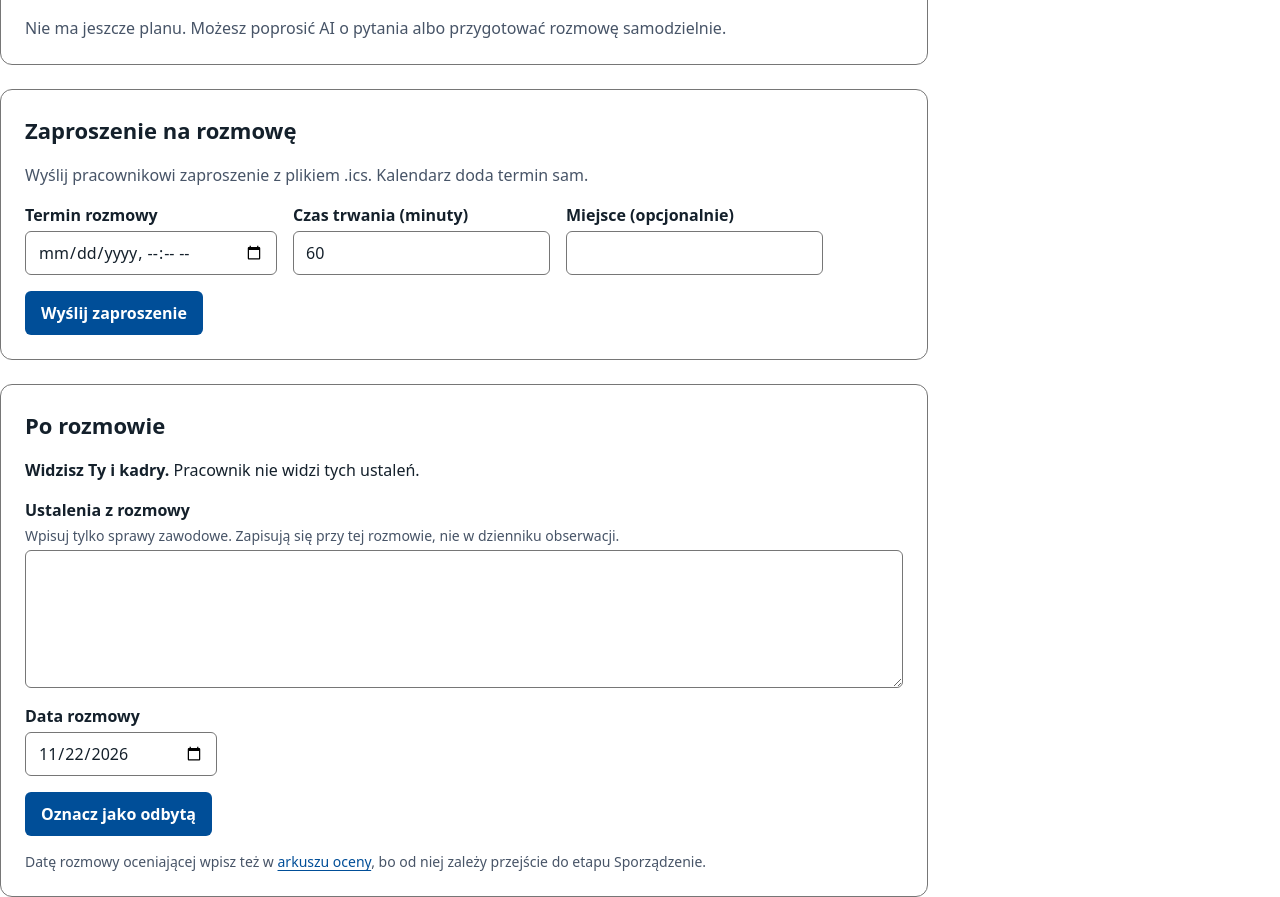
Test case: ConversationPage › saves the outcomes with the date of the conversation
(page scrolled)
Step 1. Type "Cotygodniowy przegląd zadań." into the text box labelled "Ustalenia z rozmowy" → (464,619), box 25,550 -> 902,688
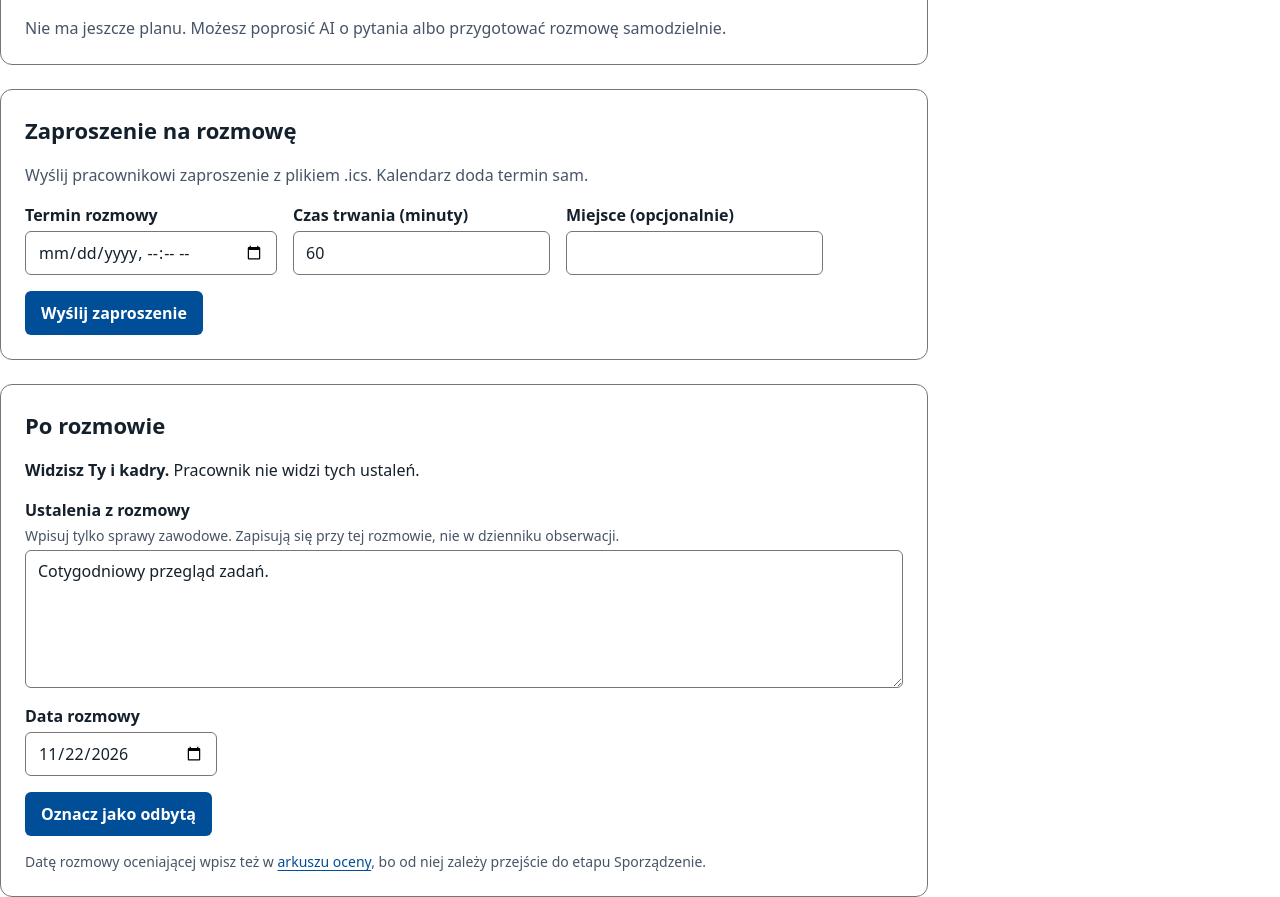
Step 2. Type "2026-11-20" into the date field labelled "Data rozmowy" → (121,754), box 25,732 -> 217,776
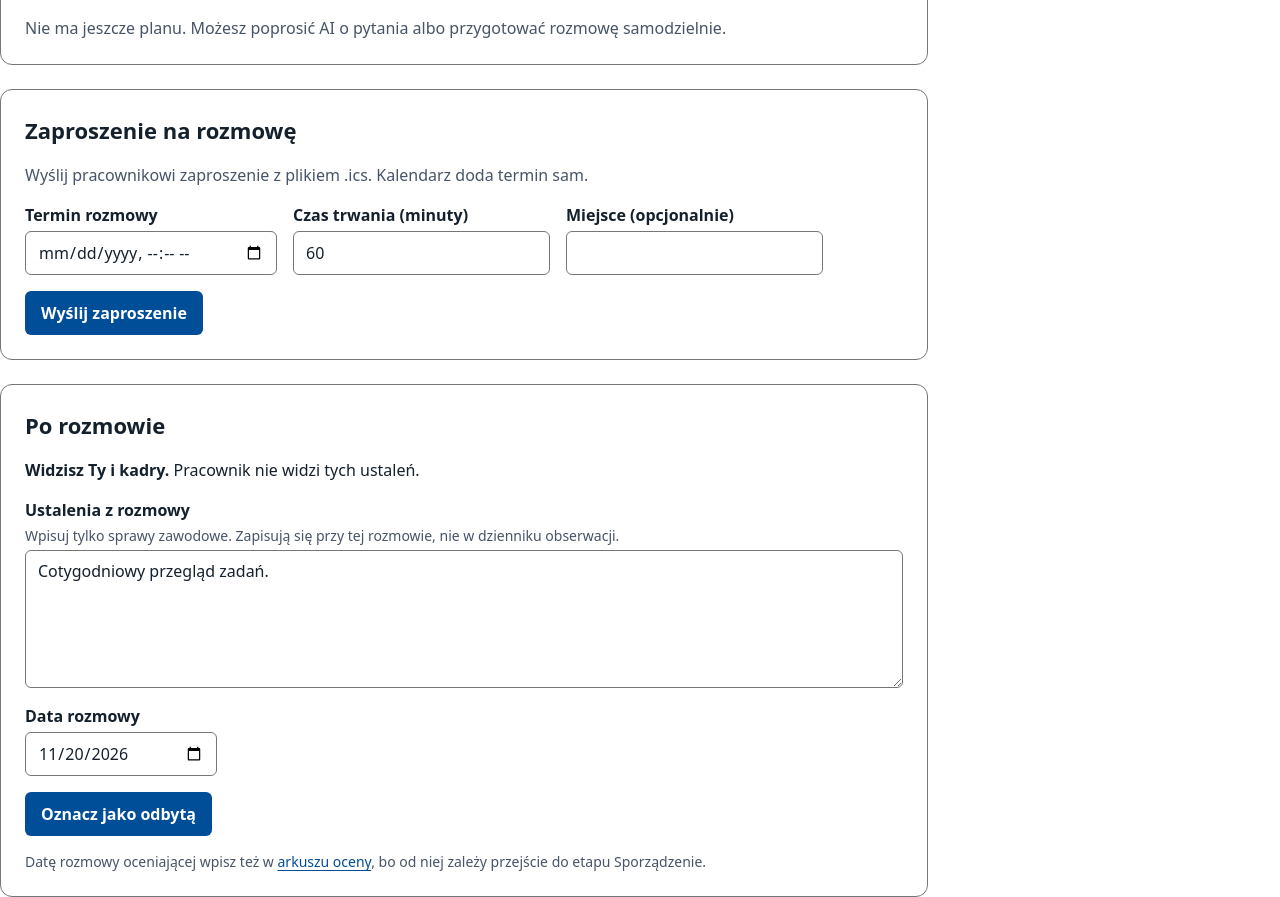
Step 3. Click the button "Oznacz jako odbytą" → (118,814), box 25,792 -> 212,836
(page scrolled)
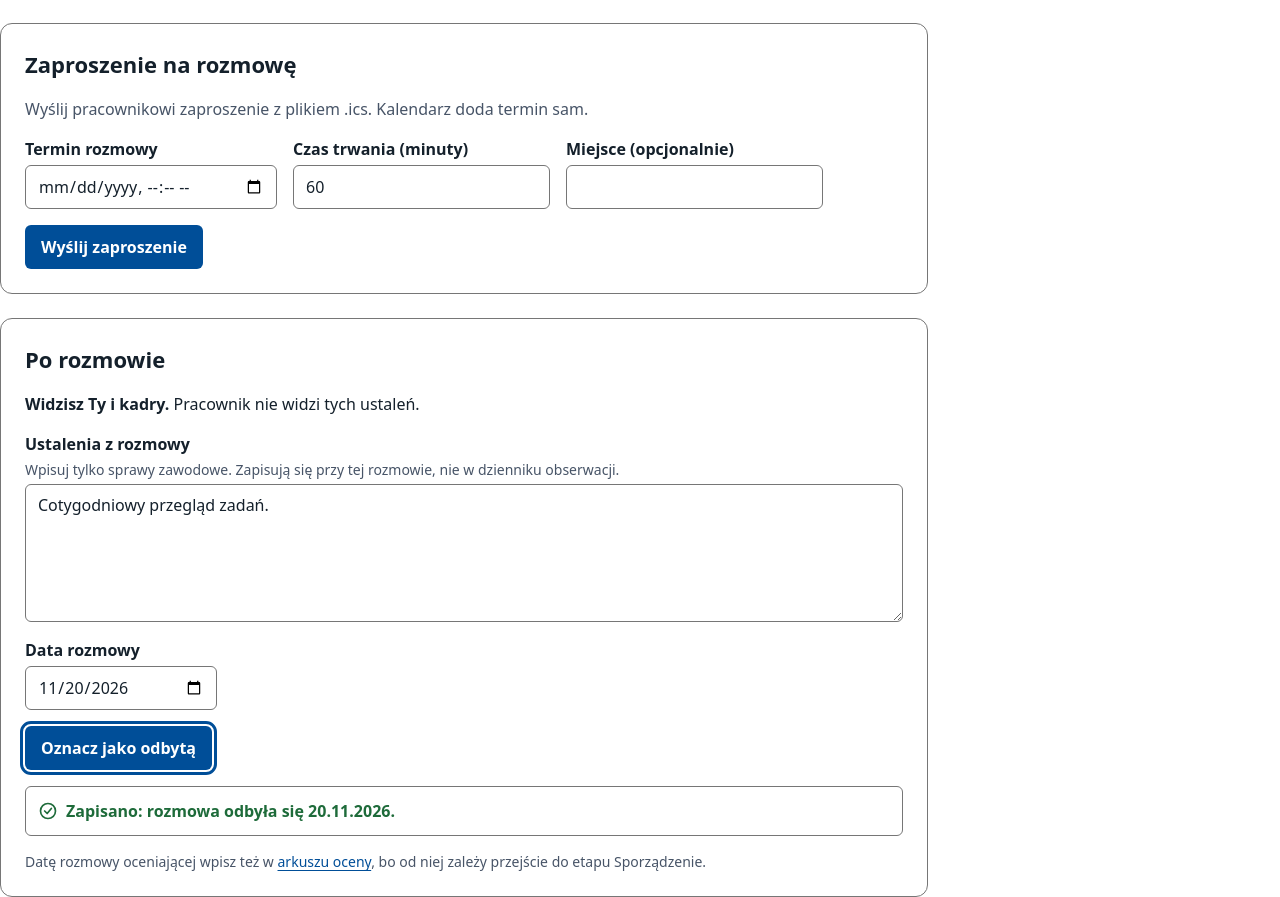
Expected: the message shows "rozmowa odbyła się 20.11.2026", 66,800 -> 395,822
